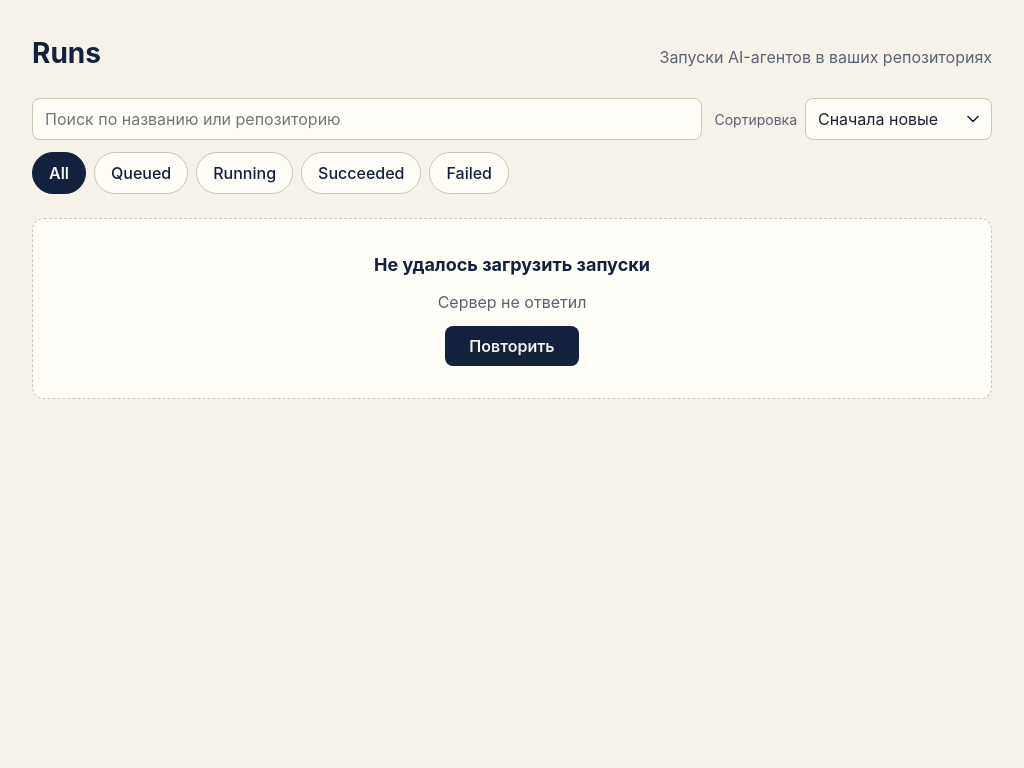
Test case: RunsPage › shows an error and retries the request
The image size is (1024, 768).
Check: the message shows "Сервер не ответил", box [438,292,586,312]
Step 1. Click the button "Повторить" → point(512, 346), box [445,326,579,366]
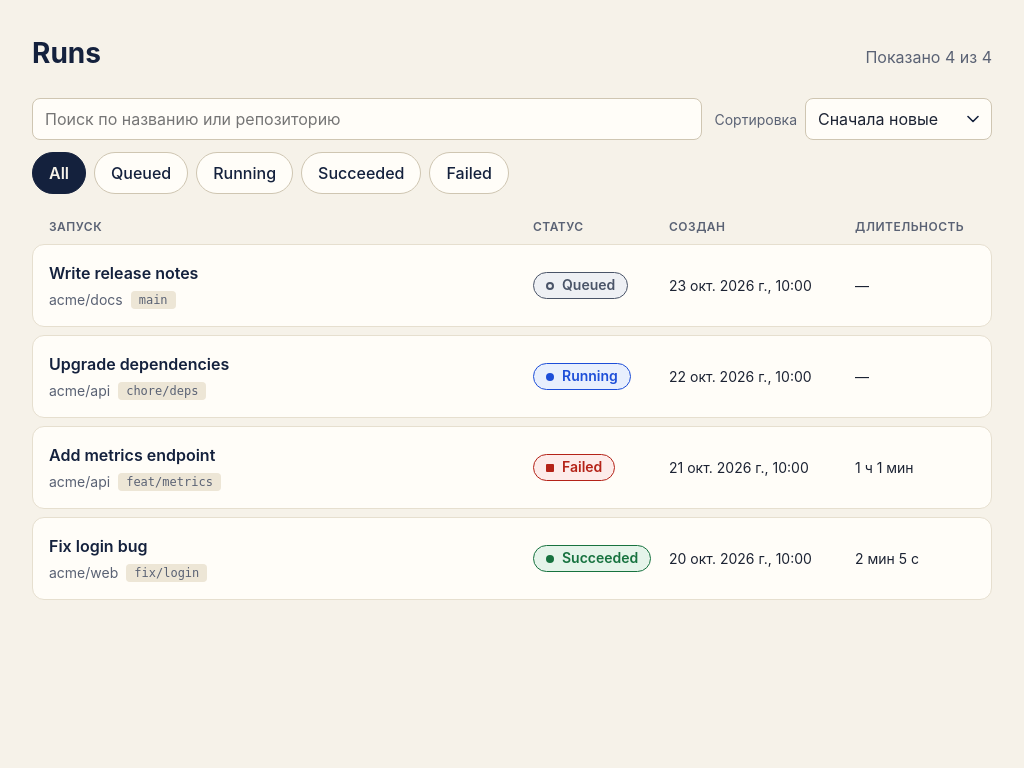
Check: the list named "Запуски" is shown, box [32,244,992,600]
